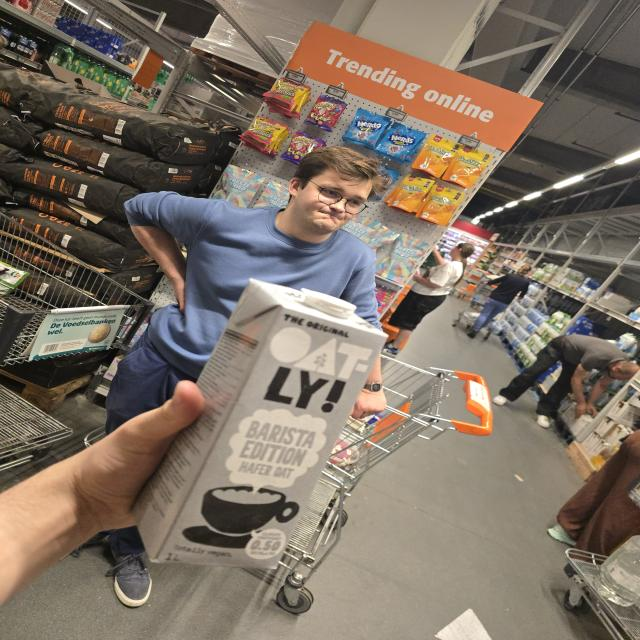Milk: (126, 278, 390, 569)
